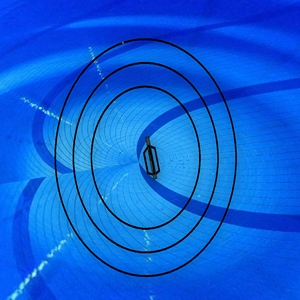circle: (53, 36, 241, 279)
submarine: (139, 132, 167, 182)
